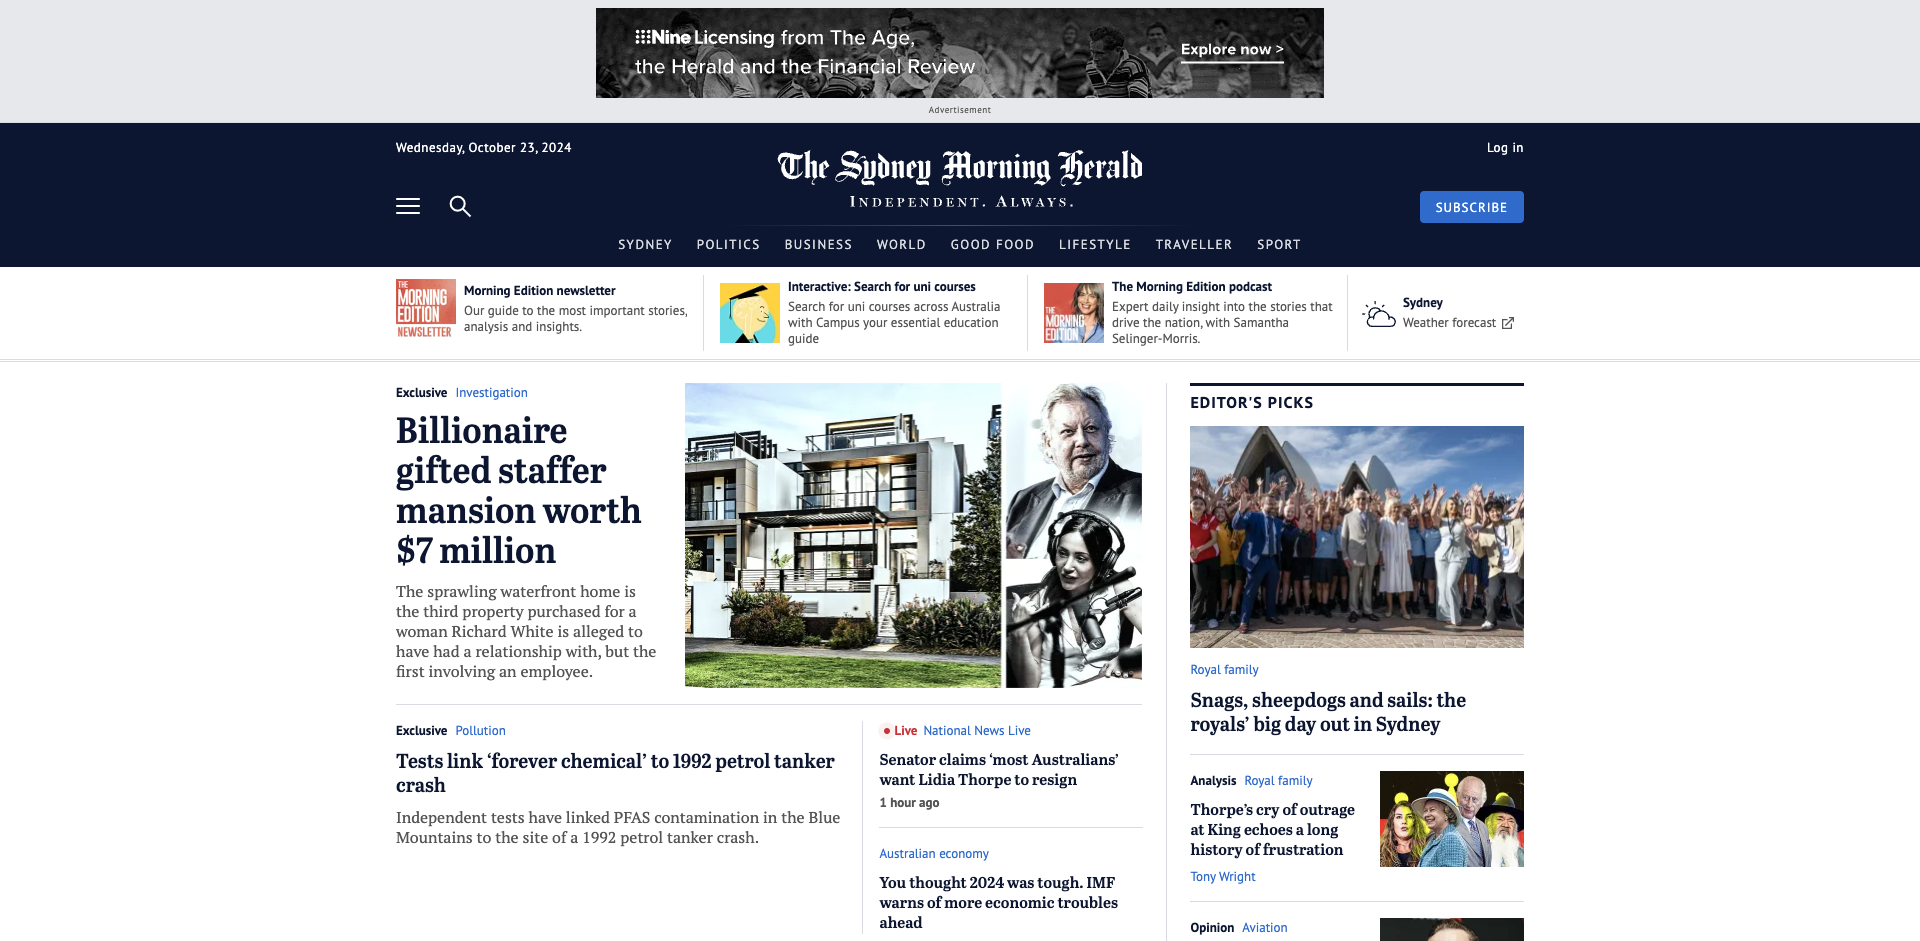button: (396, 187, 436, 225), (440, 187, 480, 225), (1624, 111, 1670, 127)
link: (686, 384, 1142, 687), (1190, 426, 1524, 648), (396, 413, 661, 573), (396, 751, 846, 799), (1190, 801, 1524, 861), (1190, 690, 1524, 739), (879, 874, 1142, 934), (775, 148, 1145, 187), (1380, 772, 1524, 867), (879, 751, 1142, 790), (396, 279, 456, 339), (720, 283, 780, 343), (1044, 283, 1104, 343), (464, 283, 687, 299), (789, 279, 1011, 295), (1112, 279, 1335, 295), (1380, 919, 1524, 941), (1359, 314, 1516, 331), (1471, 127, 1524, 167), (879, 845, 989, 861), (923, 723, 1031, 739), (950, 236, 1035, 252), (1156, 236, 1233, 252), (1059, 236, 1131, 252), (456, 385, 528, 401), (785, 236, 853, 252), (1190, 663, 1259, 679), (1244, 773, 1313, 789), (1190, 870, 1255, 886), (697, 236, 760, 252), (618, 236, 673, 252), (877, 236, 927, 252), (456, 723, 506, 739), (1243, 920, 1288, 936), (1258, 236, 1302, 252)
